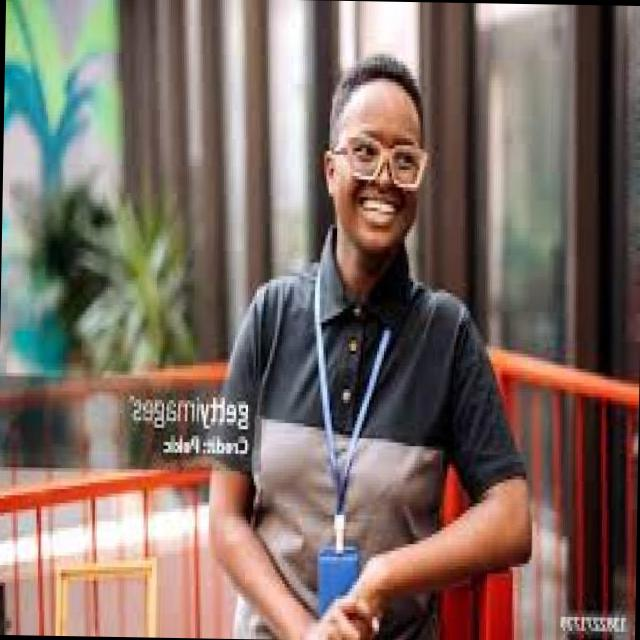id_card: (296, 279, 395, 636)
